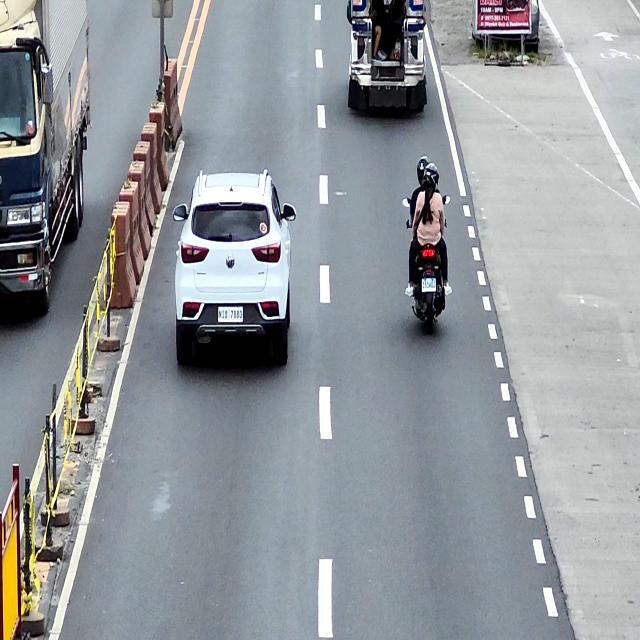Car: (173, 171, 297, 369)
Jeep: (346, 0, 428, 116)
License-Plate: (218, 307, 243, 322), (422, 278, 436, 291)
Motorcycle: (403, 193, 451, 331)
Truck: (0, 0, 93, 320)
